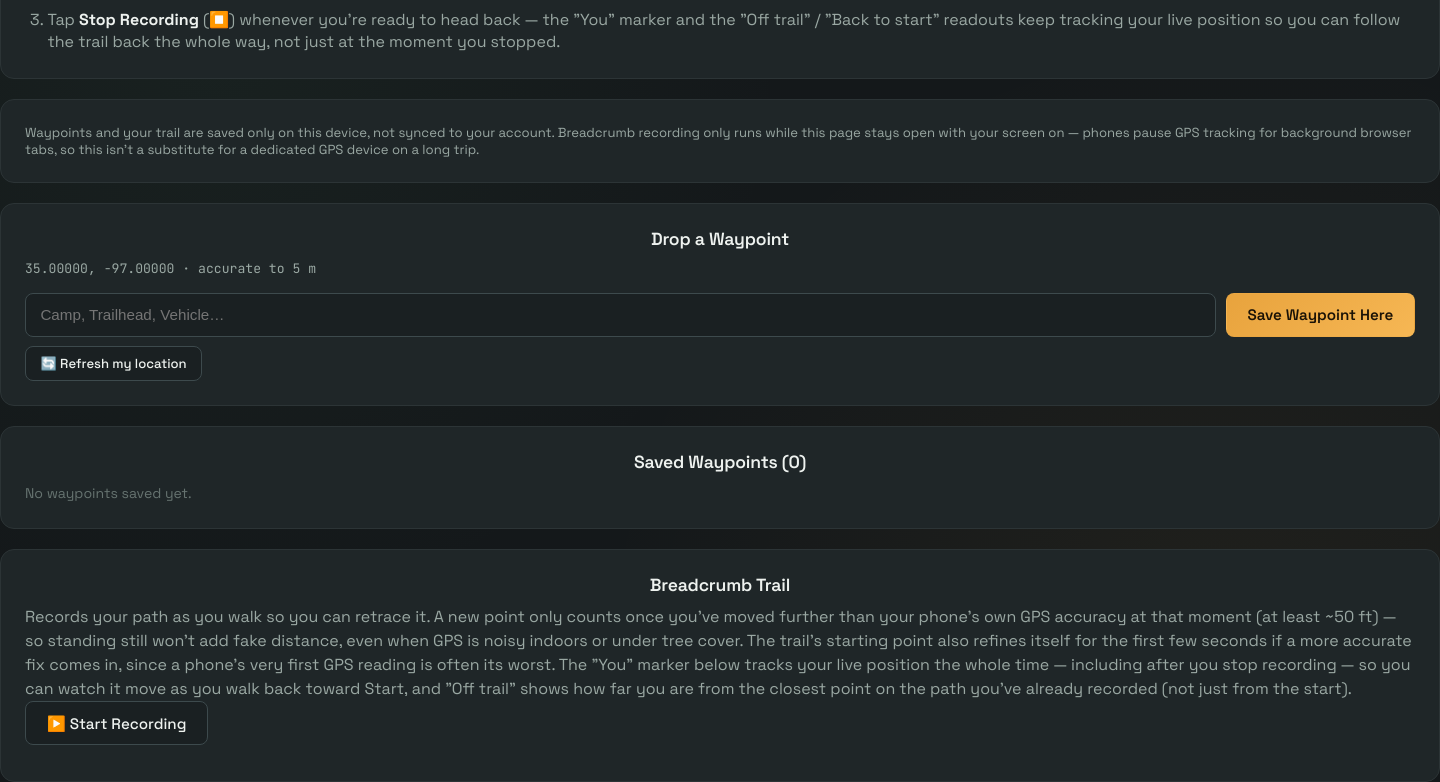
Scenario: WaypointsContent › does not record fake movement from GPS jitter while standing still with poor accuracy
(page scrolled)
Click the button "▶️ Start Recording". click: x=117, y=723
box: top-left (25, 702), bottom-right (208, 745)
(page scrolled)
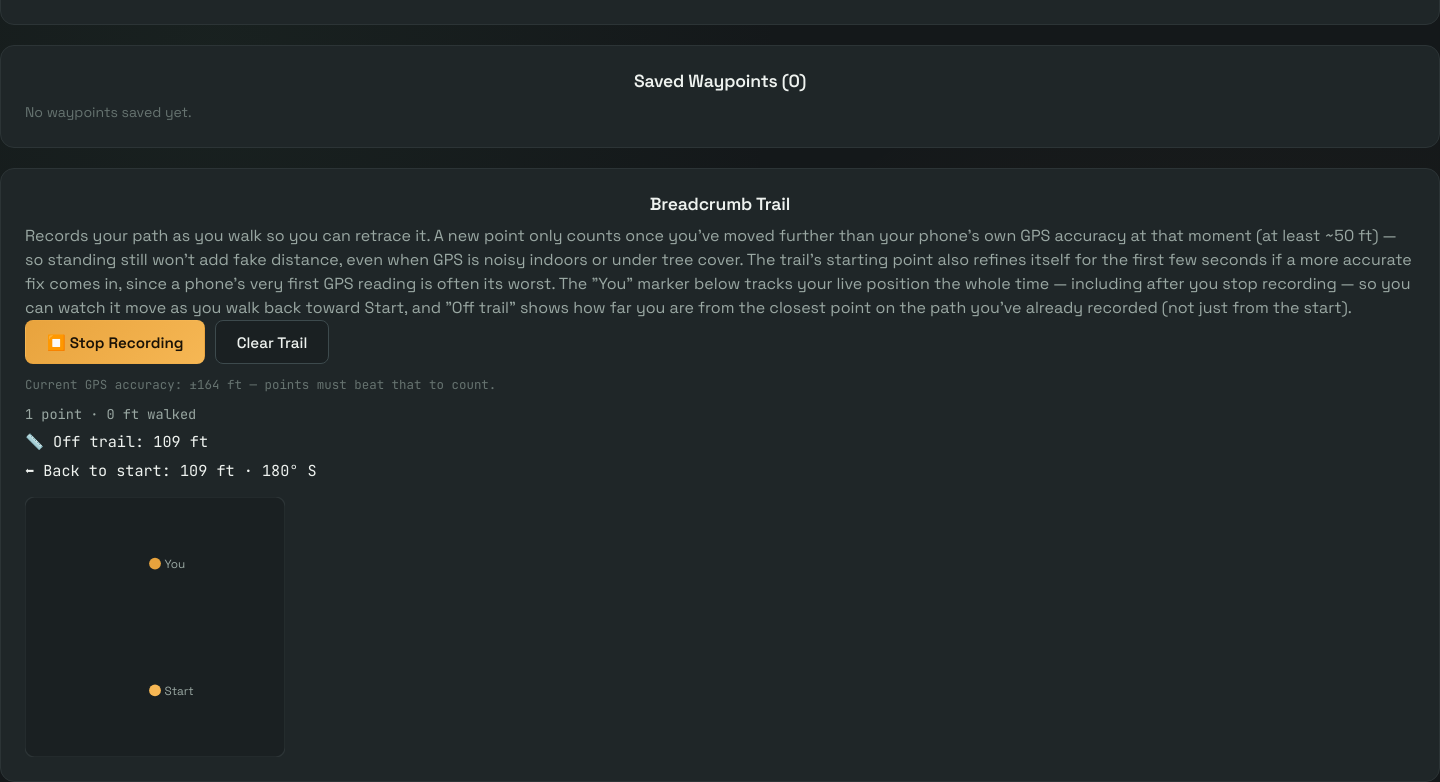
Expected: the text "1 point · 0 ft walked" is shown, top-left (25, 405), bottom-right (196, 423)
